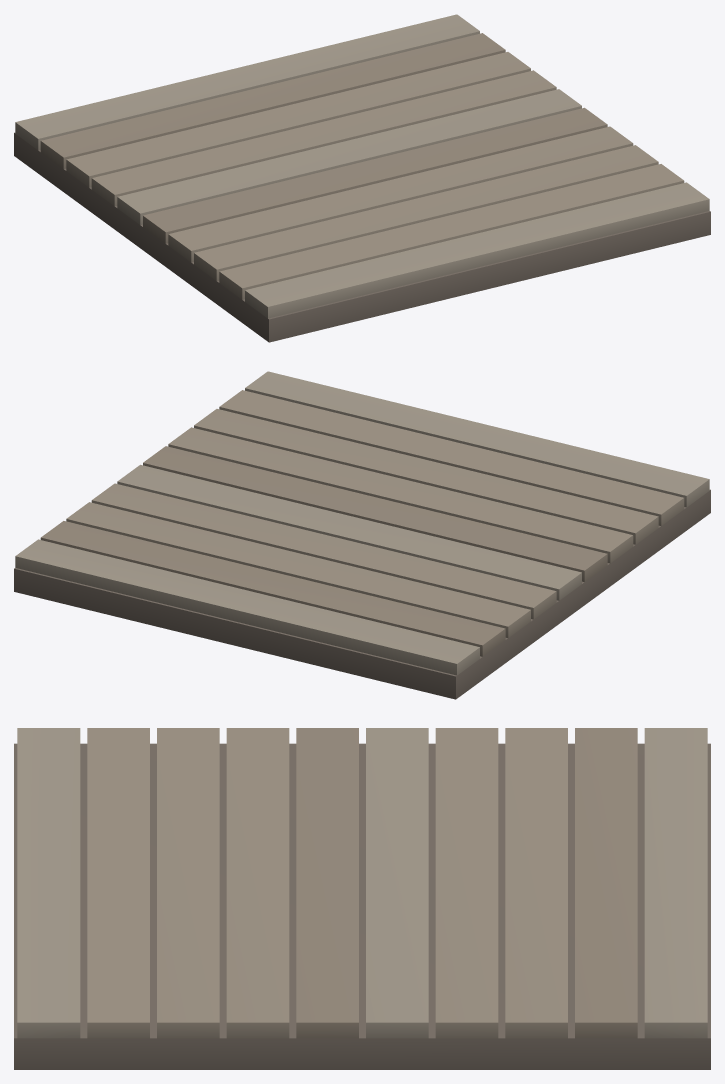
File: deck.glb
3 views of the same model, one above another, from view 1: azimuth 30°, elevation 25°; view 2: azimuth 150°, elevation 25°; view 3: azimuth 270°, elevation 25° (orthographic). The views are drawn at different scales.
Parts seen in each view (by area): view 1: deck; view 2: deck; view 3: deck.
Part boxes in pixels (bbox=[...]): deck: bbox=[14, 14, 710, 342]; deck: bbox=[14, 371, 710, 699]; deck: bbox=[14, 728, 710, 1069].
Size of the model in its own units: 4 by 0.3 by 4.
